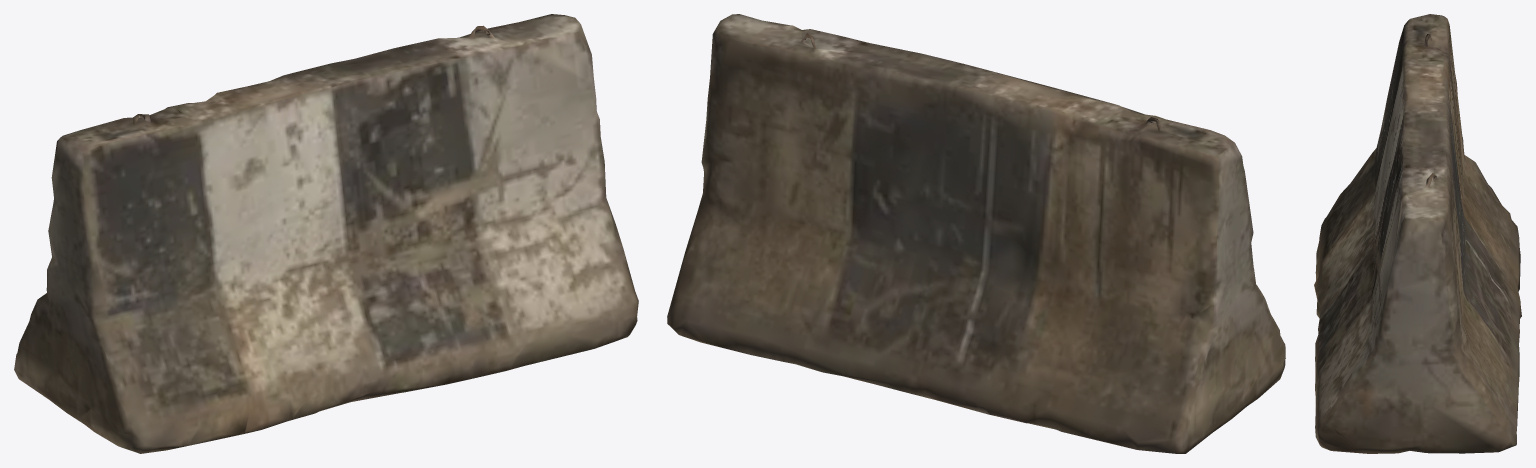
The model's file is separateur_beton_lod1.glb.
3 views of the same model, side by side, from view 1: azimuth 30°, elevation 25°; view 2: azimuth 150°, elevation 25°; view 3: azimuth 270°, elevation 25° (orthographic). The views are drawn at different scales.
Parts seen in each view (by area): view 1: concrete_road_barrier; view 2: concrete_road_barrier; view 3: concrete_road_barrier.
Part boxes in pixels (<box>): concrete_road_barrier: <box>14,14,638,453</box>; concrete_road_barrier: <box>667,14,1285,453</box>; concrete_road_barrier: <box>1314,14,1521,453</box>.
Size of the model in its own units: 1.54 by 0.8292 by 0.6371.
Materials: 1 (1 with a texture image).
